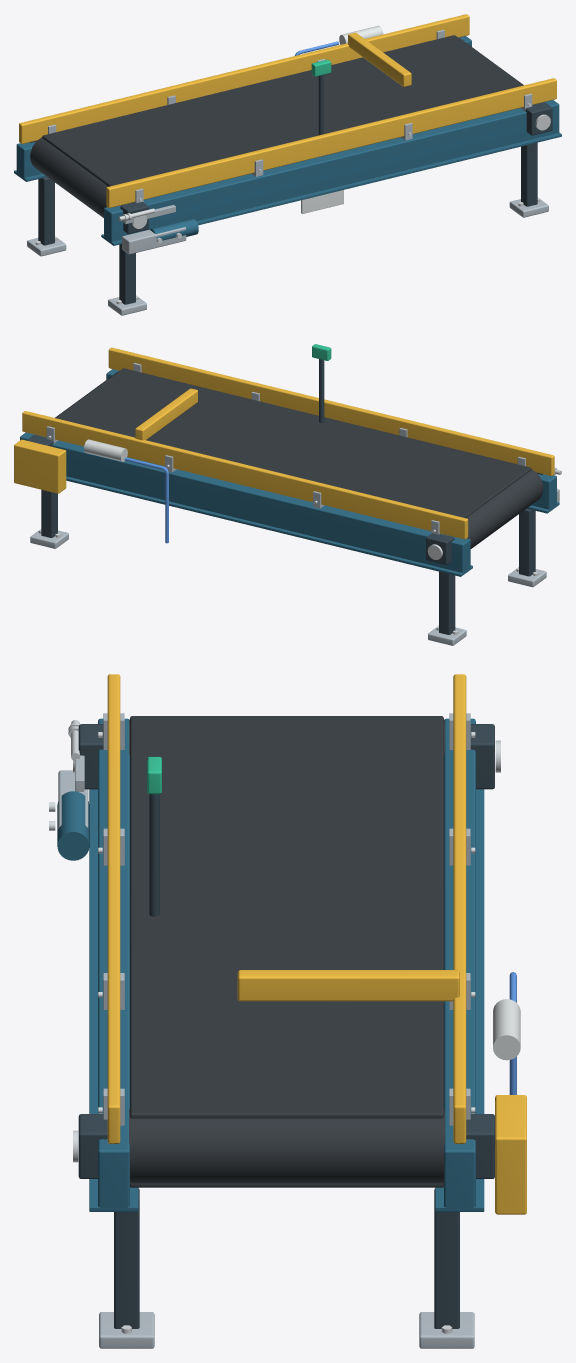
File: Equipment_CV.fbx
3 views of the same model, one above another, from view 1: azimuth 30°, elevation 25°; view 2: azimuth 150°, elevation 25°; view 3: azimuth 270°, elevation 25° (orthographic). The views are drawn at different scales.
Visible parts, largest first — view 1: BeltTop, ConveyorFrame, EdgeGuard, EdgeGuard.001, TailDrumMesh, ConveyorChannelLip, DiverterGuide, Leg.005, Leg.006, TensionerMount, Leg.004, ConveyorFrame.001 (+7 smaller); view 2: BeltTop, ConveyorFrame.001, EdgeGuard.001, EdgeGuard, TailDrumMesh, DriveChainGuard, ConveyorChannelLip.001, DiverterGuide, Leg.004, Leg.005, Leg.007, ConveyorFrame (+6 smaller); view 3: BeltTop, HeadDrumMesh, ConveyorFrame, ConveyorFrame.001, DiverterGuide, EdgeGuard, EdgeGuard.001, DriveChainGuard, ConveyorChannelLip, ConveyorChannelLip.001, Leg.006, Leg.007 (+10 smaller).
Part boxes in pixels (x1,y1,x2,y2): BeltTop: (42,35,523,186); ConveyorFrame: (104,100,559,241); EdgeGuard: (106,78,556,207); EdgeGuard.001: (19,14,469,143); TailDrumMesh: (30,137,108,217); ConveyorChannelLip: (101,132,561,245); DiverterGuide: (348,32,411,86); Leg.005: (38,177,54,245); Leg.006: (521,142,537,206); TensionerMount: (122,227,186,254); Leg.004: (119,244,135,304); ConveyorFrame.001: (16,36,471,177); BeltTop: (55,368,531,518); ConveyorFrame.001: (20,432,470,572); EdgeGuard.001: (22,411,468,539); EdgeGuard: (108,347,554,475); TailDrumMesh: (466,469,543,548); DriveChainGuard: (14,439,66,493); ConveyorChannelLip.001: (66,476,472,576); DiverterGuide: (135,388,197,440); Leg.004: (519,508,535,576); Leg.005: (439,571,455,634); Leg.007: (41,489,57,537); ConveyorFrame: (106,369,556,509); BeltTop: (130,716,443,1118); HeadDrumMesh: (129,1109,444,1183); ConveyorFrame: (98,718,129,1209); ConveyorFrame.001: (444,718,475,1210); DiverterGuide: (237,970,459,1001); EdgeGuard: (107,674,120,1143); EdgeGuard.001: (453,674,466,1143); DriveChainGuard: (495,1095,526,1214); ConveyorChannelLip: (89,789,138,1211); ConveyorChannelLip.001: (435,789,484,1211); Leg.006: (114,1188,139,1328); Leg.007: (434,1188,459,1328).
Bounding box in the file's own units: 4.8 × 1.96 × 2.24.
